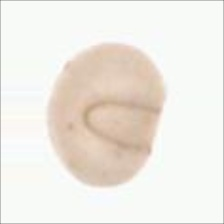L5: (80, 97, 162, 154)
L6: (44, 41, 167, 189)
